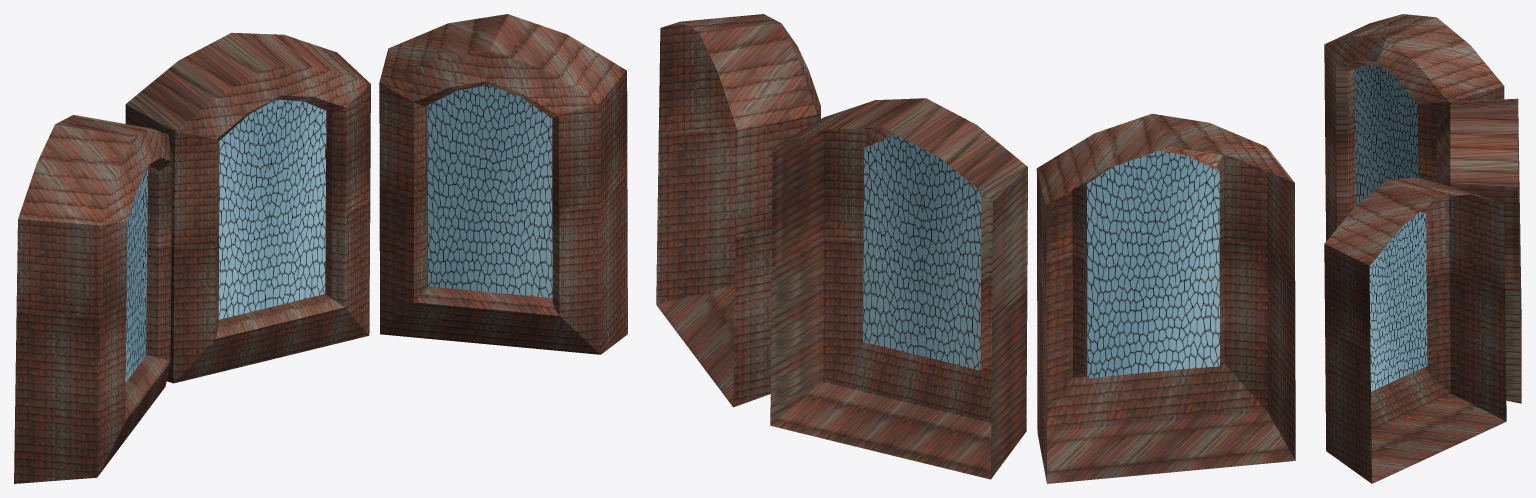
Rendered from kosciol_okna_tyl.fbx.
3 renders of one model, left to right at view 1: azimuth 30°, elevation 25°; view 2: azimuth 150°, elevation 25°; view 3: azimuth 270°, elevation 25°, orthographic. The views are drawn at different scales.
Parts seen in each view (by area): view 1: oknatyl; view 2: oknatyl; view 3: oknatyl.
Boxes of the visible parts, x1=… form: oknatyl: x1=14, y1=14, x2=627, y2=483; oknatyl: x1=656, y1=14, x2=1295, y2=483; oknatyl: x1=1324, y1=14, x2=1521, y2=483.
Bounding box in the file's own units: 2295 × 1110 × 782.
Materials: 1 (1 with a texture image).
